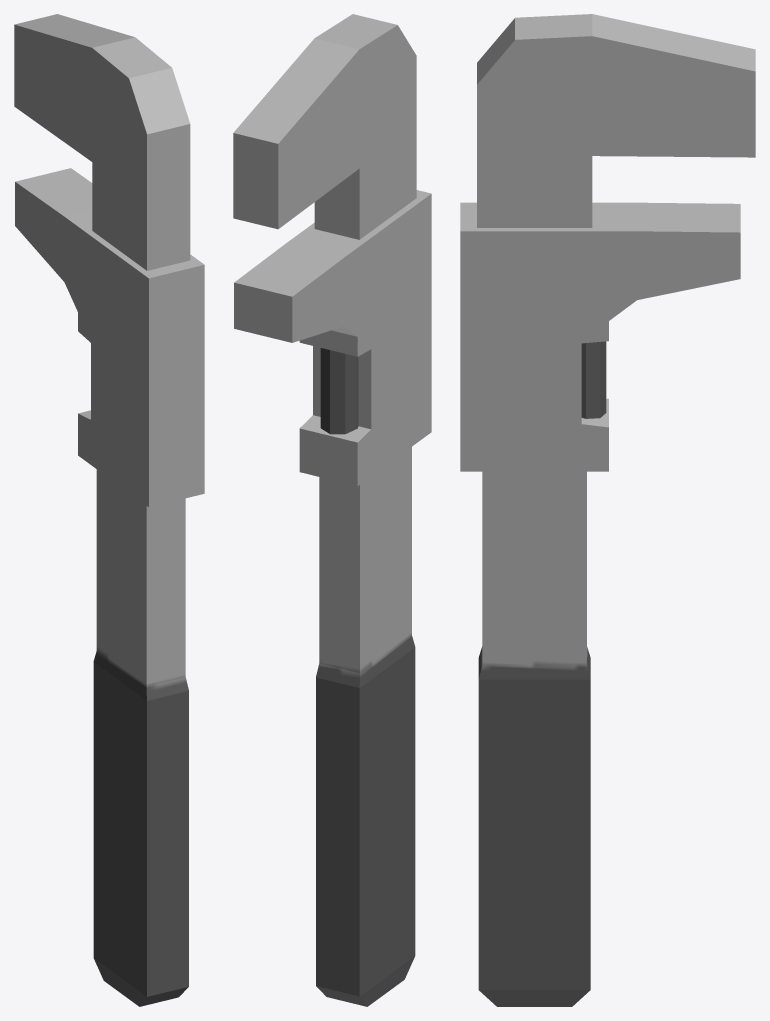
The model's file is SM_Tool.fbx.
3 views of the same model, side by side, from view 1: azimuth 30°, elevation 25°; view 2: azimuth 150°, elevation 25°; view 3: azimuth 270°, elevation 25° (orthographic). The views are drawn at different scales.
Parts seen in each view (by area): view 1: Tool; view 2: Tool; view 3: Tool.
Part boxes in pixels (x1,y1,x2,y2): Tool: (14, 14, 204, 1006); Tool: (233, 14, 431, 1006); Tool: (460, 14, 755, 1006).
Size of the model in its own units: 5.2 by 82.4 by 22.71.
